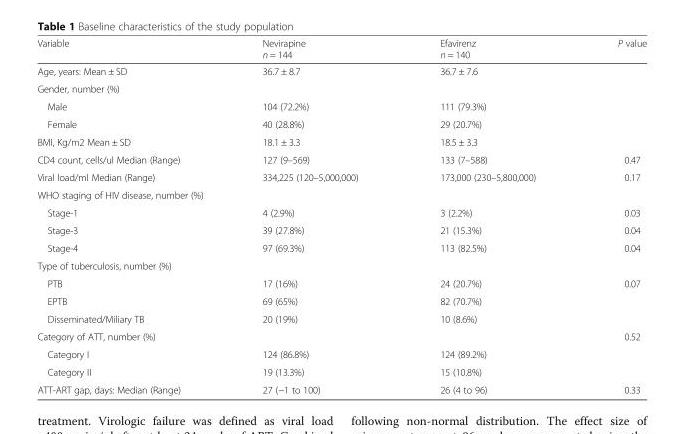table: (36, 37, 646, 394)
table column: (36, 37, 220, 394), (220, 37, 398, 394), (398, 37, 576, 394), (576, 37, 646, 394)
table column header: (36, 37, 646, 62)
table projected row header: (36, 79, 646, 97), (36, 185, 646, 203), (36, 256, 646, 274)
table row: (36, 37, 646, 62), (36, 79, 646, 97), (36, 97, 646, 115), (36, 132, 646, 150), (36, 150, 646, 168), (36, 185, 646, 203), (36, 203, 646, 221), (36, 238, 646, 256), (36, 256, 646, 274), (36, 291, 646, 309), (36, 309, 646, 327), (36, 327, 646, 345), (36, 362, 646, 380), (36, 62, 646, 79), (36, 115, 646, 132), (36, 168, 646, 185), (36, 221, 646, 238), (36, 274, 646, 291), (36, 345, 646, 362), (36, 380, 646, 394)
